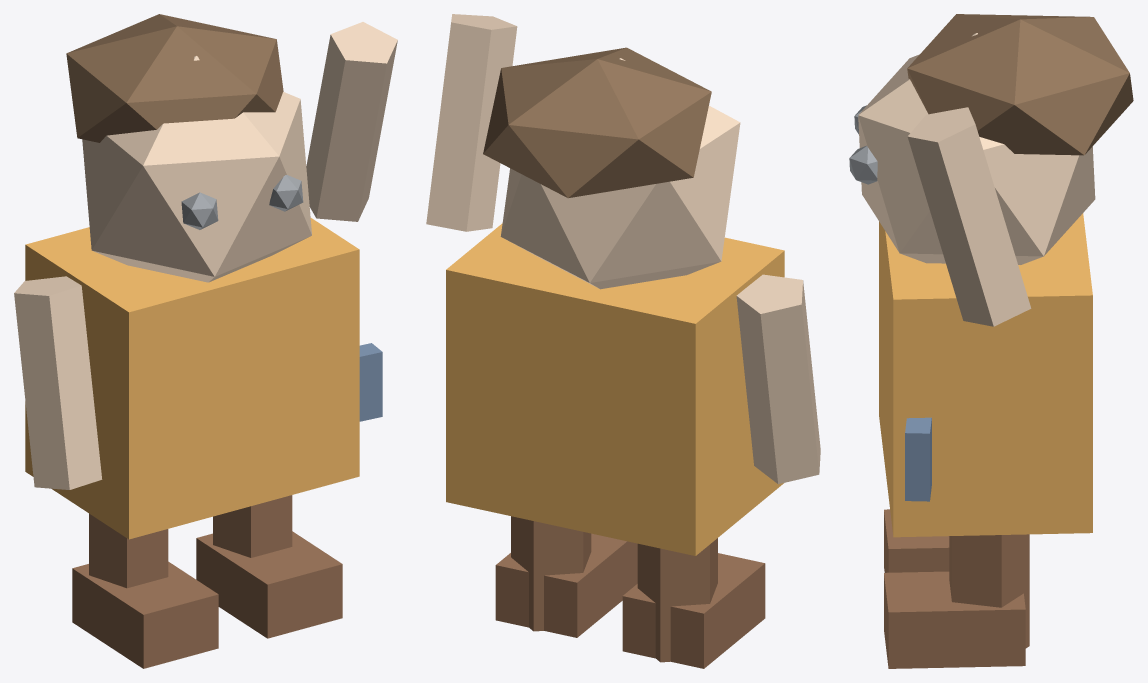
Rendered from npcpose_villager_wave_05.glb.
The picture shows the model from 3 angles, left to right: view 1: azimuth 30°, elevation 25°; view 2: azimuth 150°, elevation 25°; view 3: azimuth 270°, elevation 25°; orthographic projection. The views are drawn at different scales.
Visible parts, largest first — view 1: npcpose; view 2: npcpose; view 3: npcpose.
Boxes of the visible parts, x1,y1,x2,y2 form: npcpose: [14, 14, 397, 668]; npcpose: [426, 14, 820, 668]; npcpose: [849, 14, 1133, 668].
Bounding box in the file's own units: 0.7022 × 1.06 × 0.4552.
